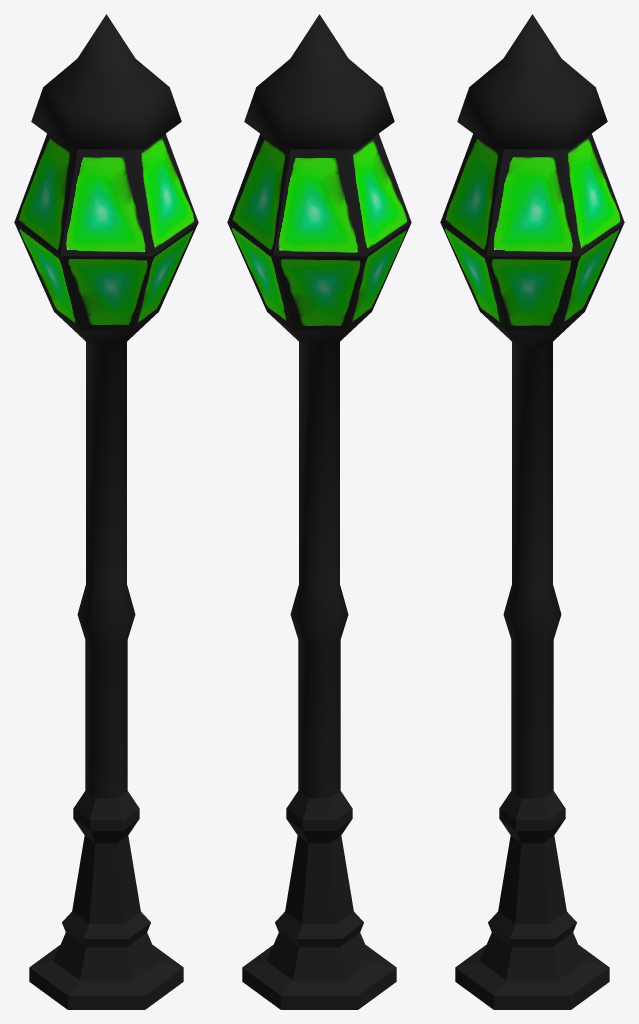
File: lamp_green.obj
3 views of the same model, side by side, from view 1: azimuth 30°, elevation 25°; view 2: azimuth 150°, elevation 25°; view 3: azimuth 270°, elevation 25° (orthographic).
Parts seen in each view (by area): view 1: Circle; view 2: Circle; view 3: Circle.
Boxes of the visible parts, x1=… form: Circle: x1=14, y1=14, x2=198, y2=1009; Circle: x1=227, y1=14, x2=411, y2=1009; Circle: x1=440, y1=14, x2=624, y2=1009.
Size of the model in its own units: 2.07 by 13.82 by 2.39.
Materials: 1 (1 with a texture image).
